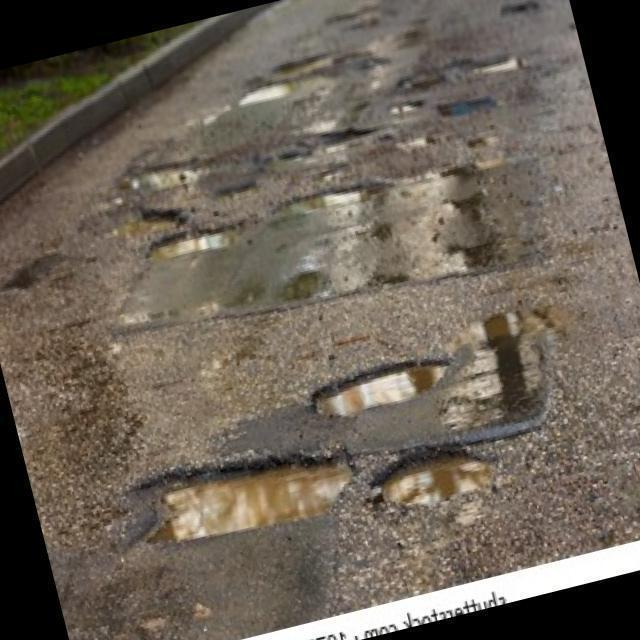pothole: (123, 428, 365, 557), (365, 432, 510, 521), (307, 349, 458, 424), (144, 216, 254, 267), (283, 173, 397, 221), (102, 199, 191, 247), (436, 92, 499, 121), (472, 51, 525, 77), (396, 129, 438, 153), (389, 95, 426, 118), (466, 131, 501, 151)
